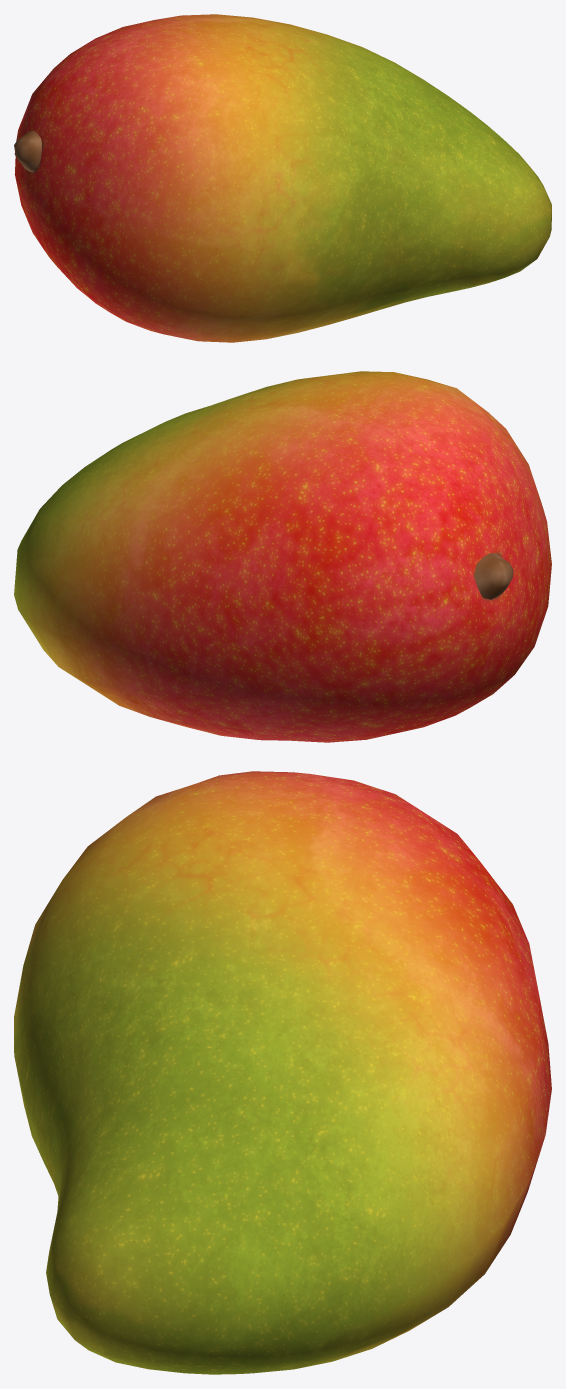
Rendered from Mango_FBX.fbx.
3 renders of one model, top to bottom at view 1: azimuth 30°, elevation 25°; view 2: azimuth 150°, elevation 25°; view 3: azimuth 270°, elevation 25°, orthographic. The views are drawn at different scales.
Visible parts, largest first — view 1: Mango; view 2: Mango; view 3: Mango.
Part boxes in pixels (x1,y1,x2,y2): Mango: [14, 14, 551, 342]; Mango: [14, 371, 551, 742]; Mango: [14, 771, 551, 1374].
Size of the model in its own units: 4.11 by 2.57 by 2.91.
